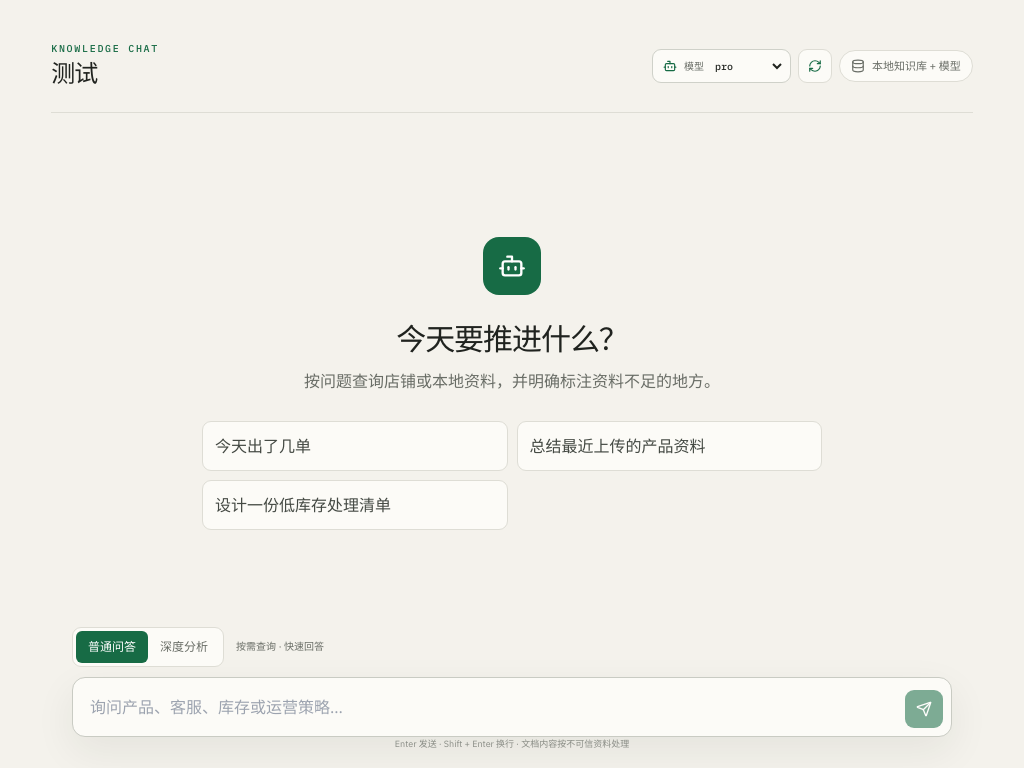
Test case: 深度模式显示计划和重规划并传递当前模型
Select "flash" in the dropdown named "选择对话模型" at (748, 66), box left=711, top=52, right=785, bottom=81
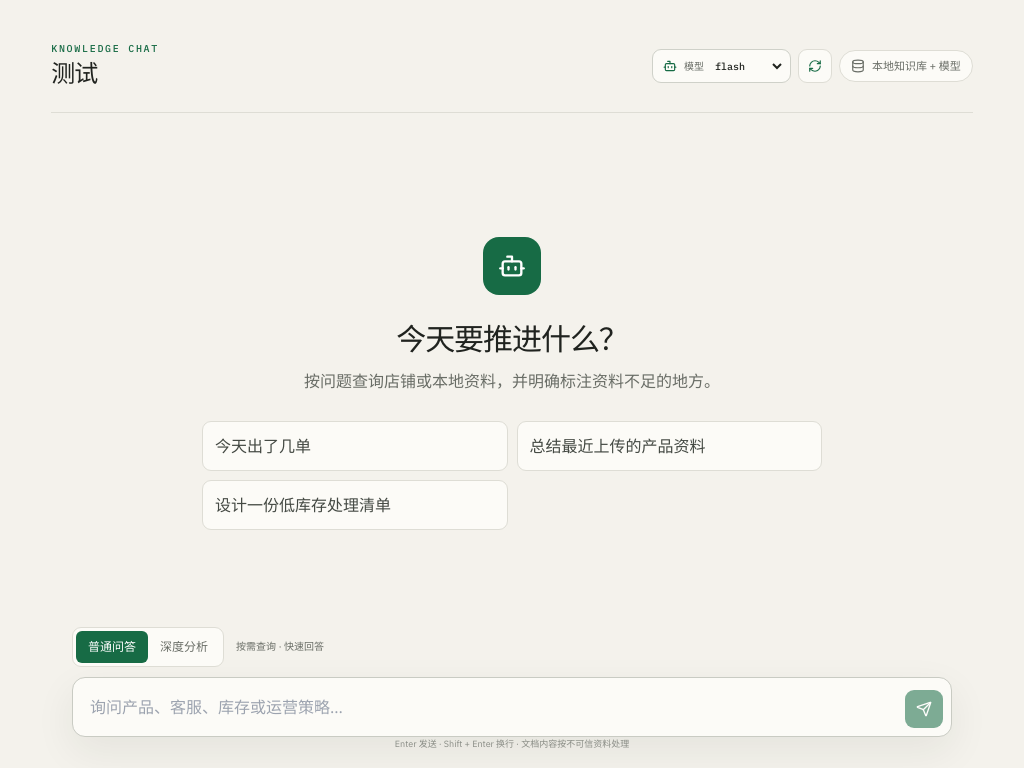
Click the button "深度分析" at (184, 646), box left=148, top=630, right=220, bottom=662
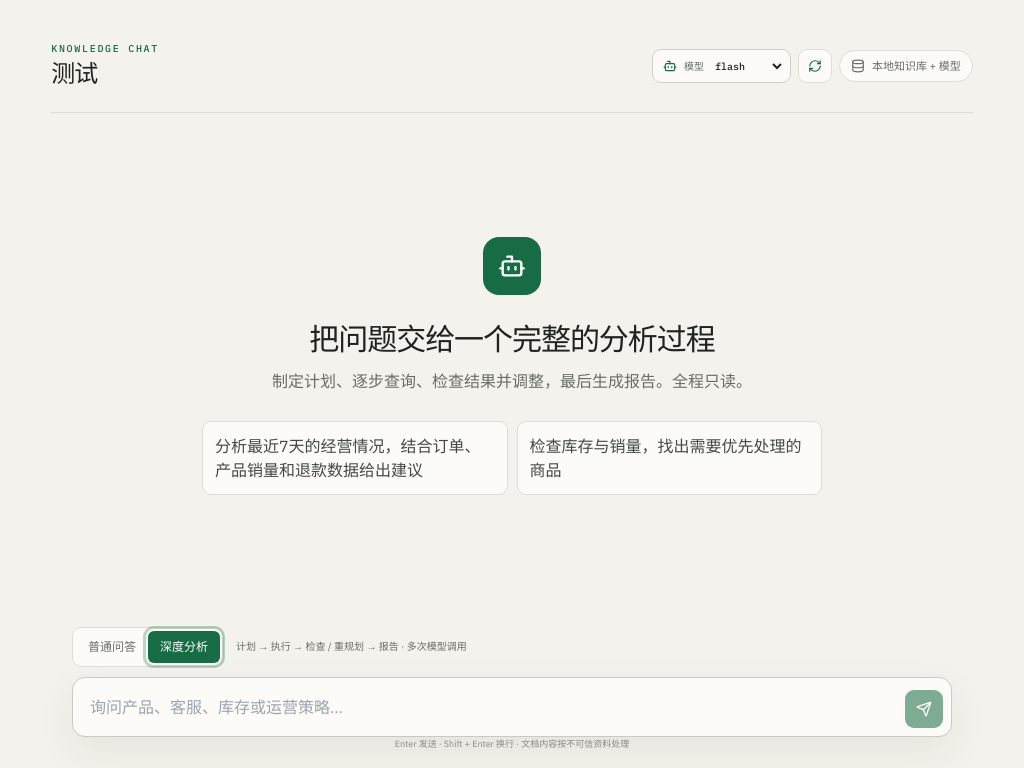
Type "分析经营" into the text box named "输入问题" at (489, 706), box left=81, top=686, right=897, bottom=728
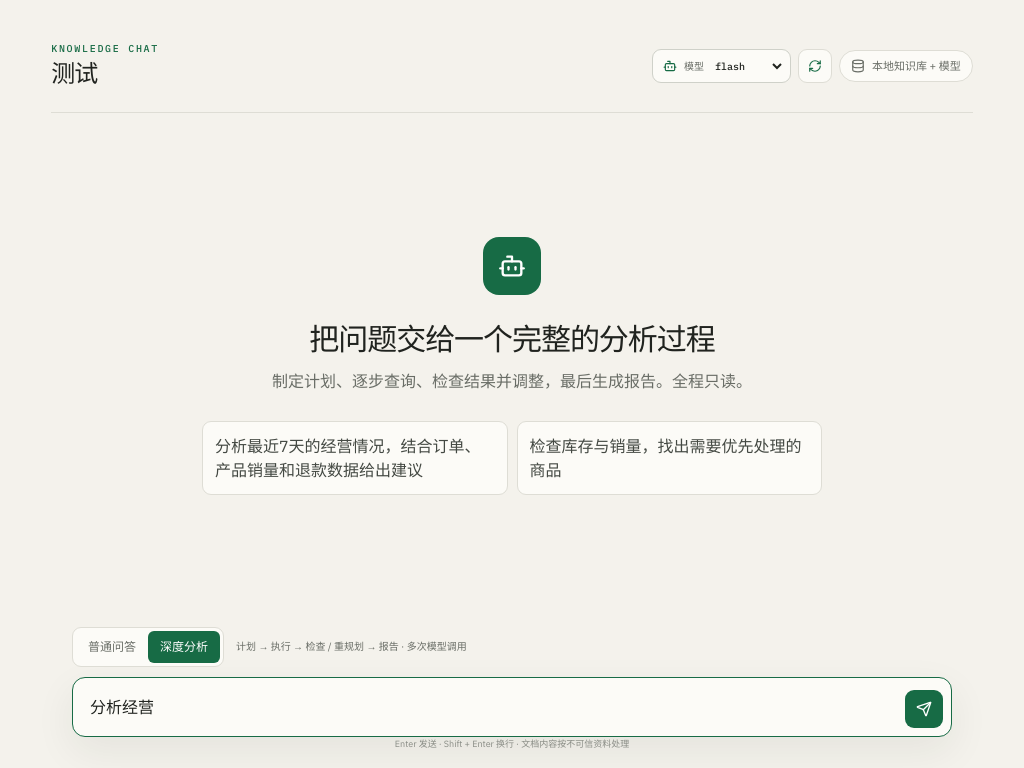
Click the button named "发送" at (924, 708), box left=905, top=690, right=943, bottom=728
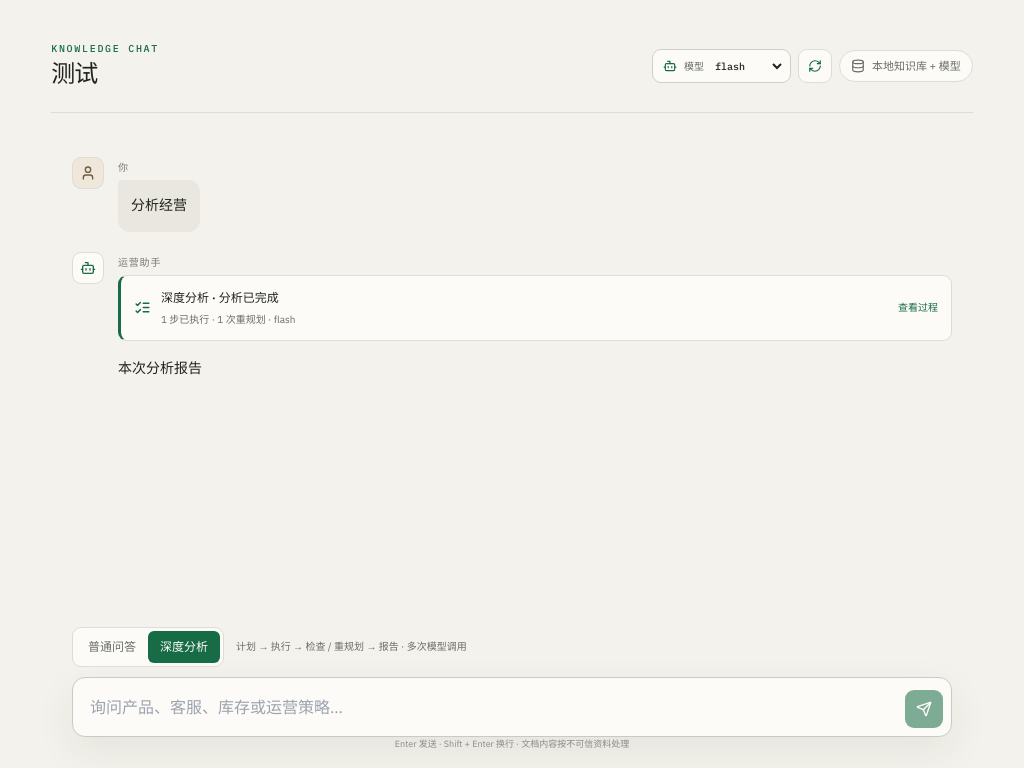
expect the text "本次分析报告" is shown: met, box left=118, top=359, right=202, bottom=377
expect the text "深度分析 · 分析已完成" is shown: met, box left=161, top=290, right=279, bottom=305
